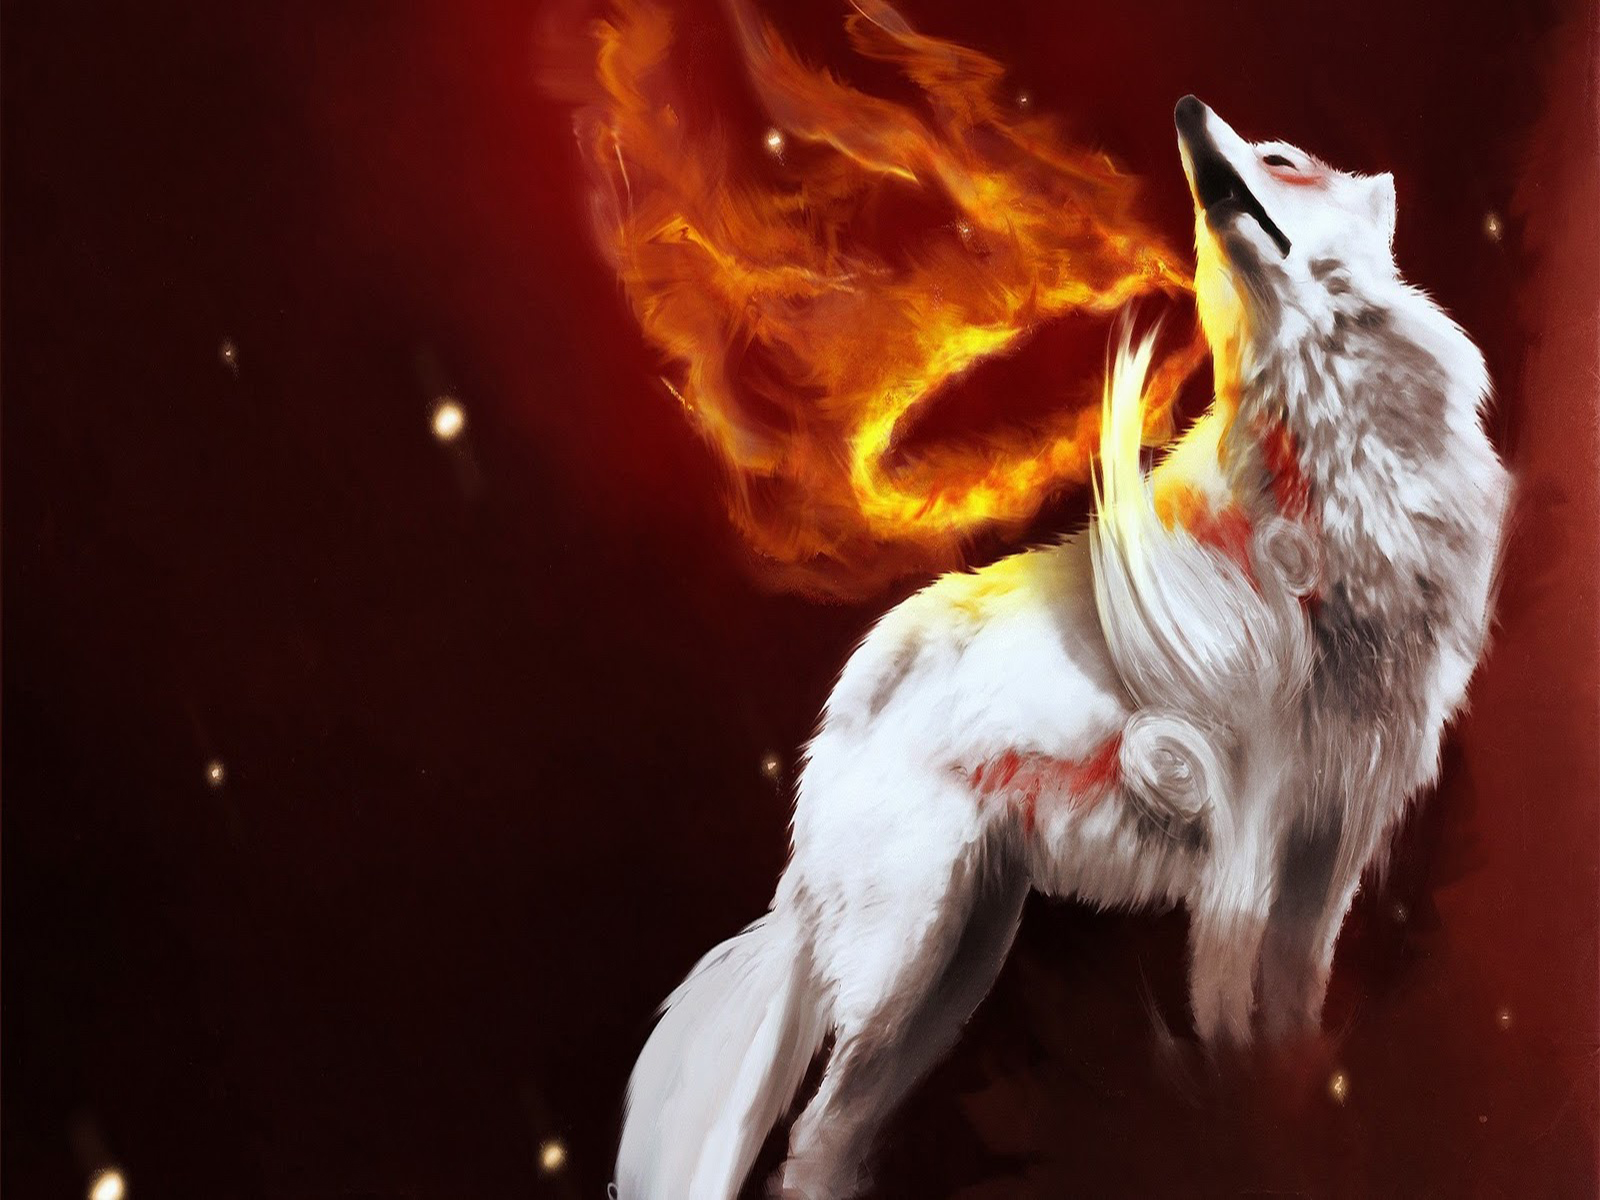Lobo: (684, 63, 1522, 1152)
